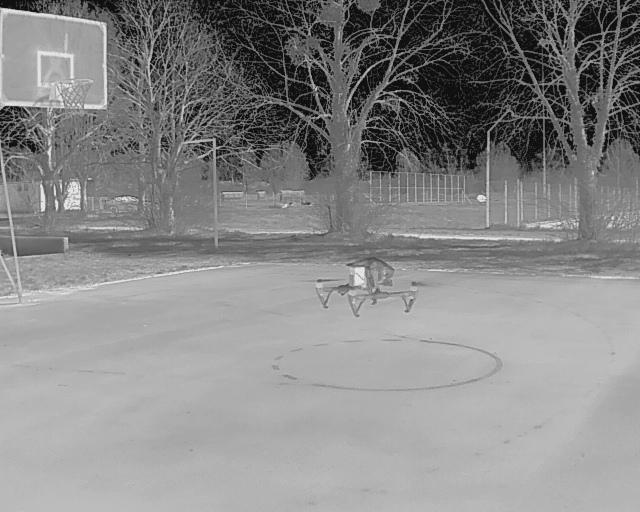drone: (298, 243, 445, 333)
